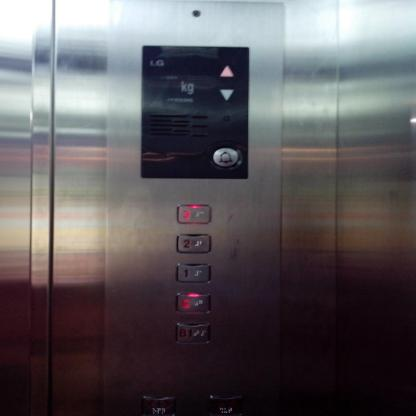1: (175, 263, 211, 283)
2: (176, 234, 211, 253)
3: (176, 204, 211, 224)
B1: (176, 322, 211, 345)
G: (176, 292, 212, 314)
alarm: (213, 147, 239, 167)
unknown: (141, 395, 176, 416), (208, 395, 243, 415)
